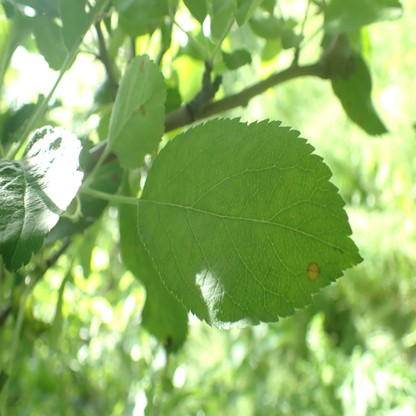frogeye_leaf_spot: (307, 262, 320, 280), (140, 106, 145, 118), (140, 60, 144, 71)
